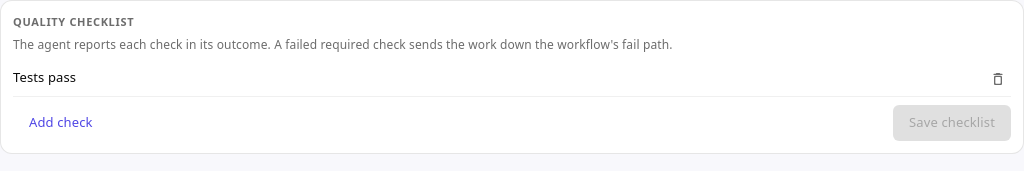
Test: QualityChecklistCard › keeps Save disabled until the checklist differs from what is saved
The width and height of the screenshot is (1024, 171).
Check: the button "Save checklist" is disabled, box x1=893 y1=105 x2=1011 y2=141
In the field: (496, 79) x1=13 y1=66 x2=979 y2=91, type "!"
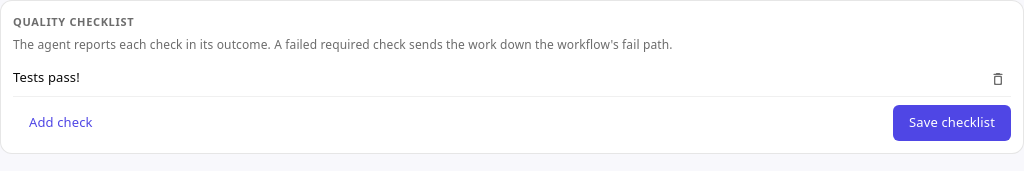
Check: the button "Save checklist" is enabled, box x1=893 y1=105 x2=1011 y2=141
